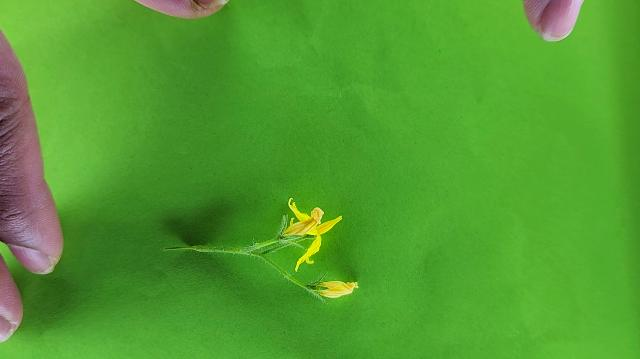Anthesis: (283, 200, 343, 273), (306, 273, 359, 299)
